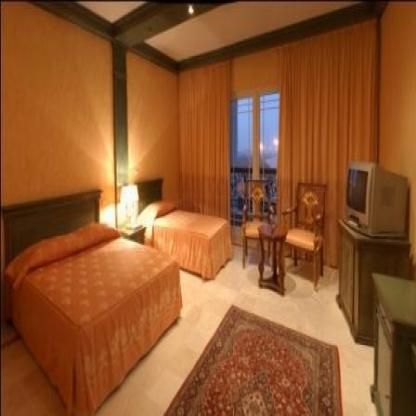other: (106, 175, 155, 250)
